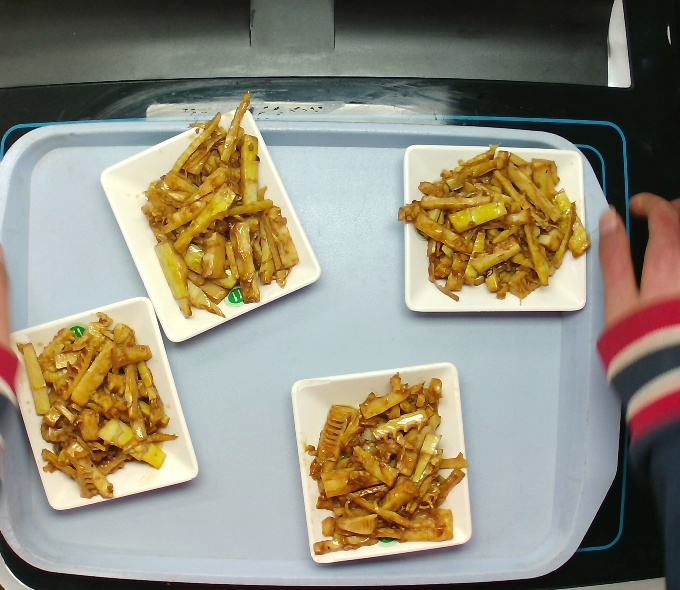wcq-QingChaoChunSun: (126, 87, 309, 333), (298, 367, 470, 564), (383, 148, 602, 300), (10, 316, 185, 497)
